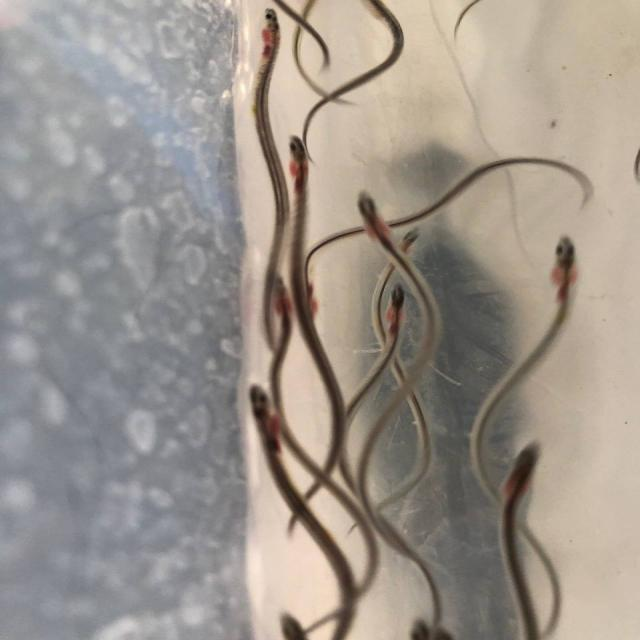glass_eel: (489, 437, 544, 514), (243, 4, 293, 67), (348, 186, 394, 254), (541, 229, 589, 293), (270, 131, 320, 192), (242, 379, 288, 438), (263, 271, 306, 328), (378, 282, 419, 332), (395, 613, 461, 640), (389, 222, 430, 263), (265, 609, 312, 640)
